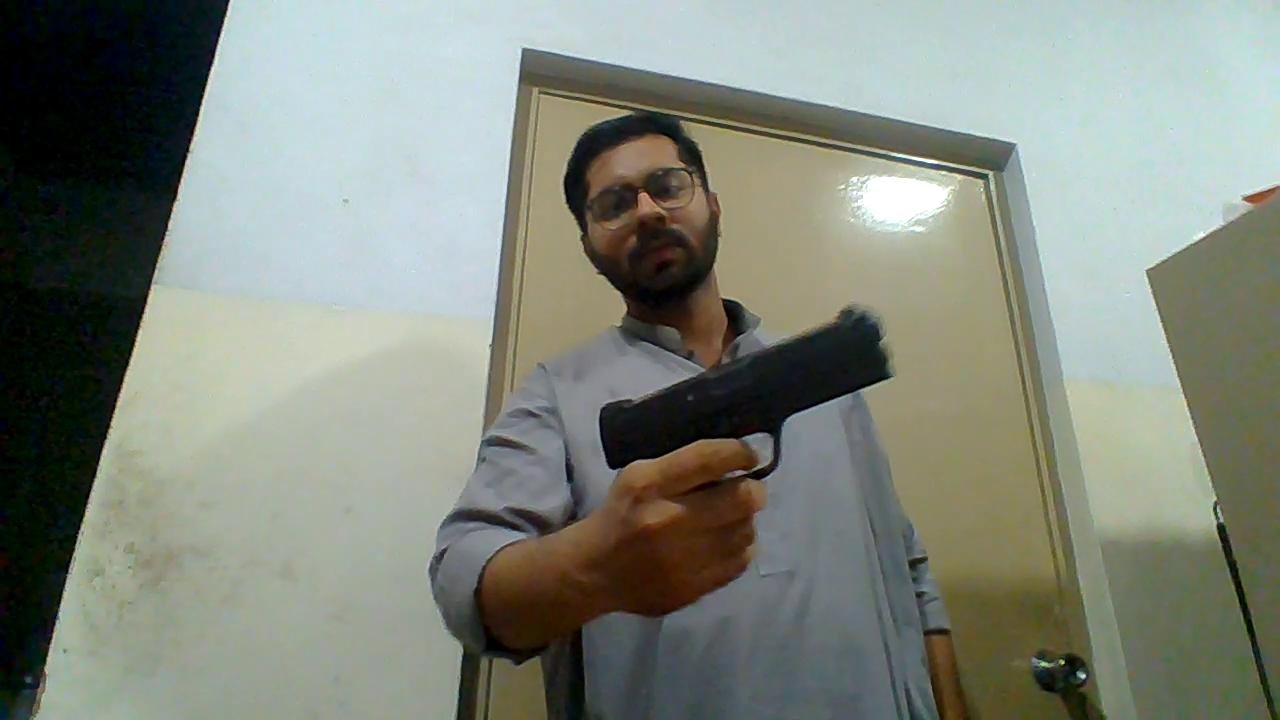criminal: (426, 109, 972, 720)
weapon: (595, 302, 899, 494)
